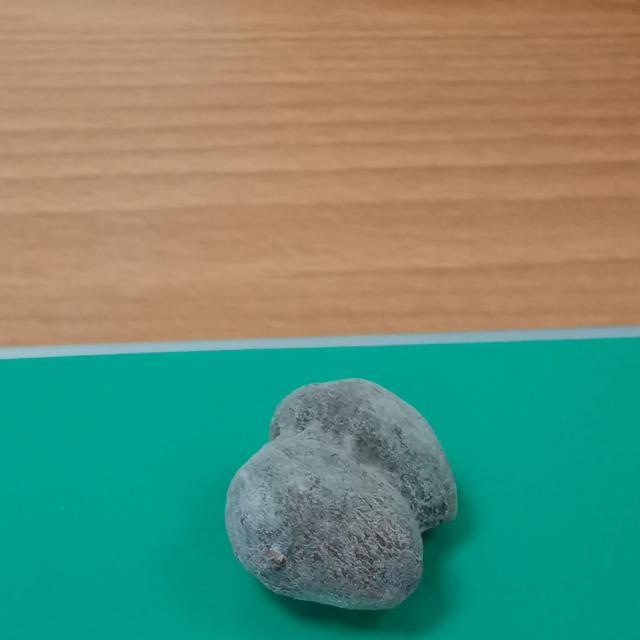Agglomerated_cocoabeans: (188, 337, 554, 640)
